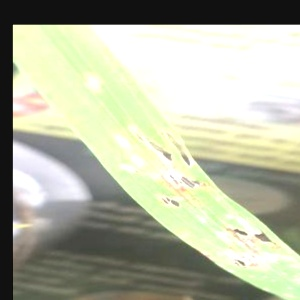Brown_Spot: (129, 126, 190, 168), (225, 203, 274, 252), (222, 243, 271, 292), (159, 167, 206, 194), (154, 191, 193, 217)
